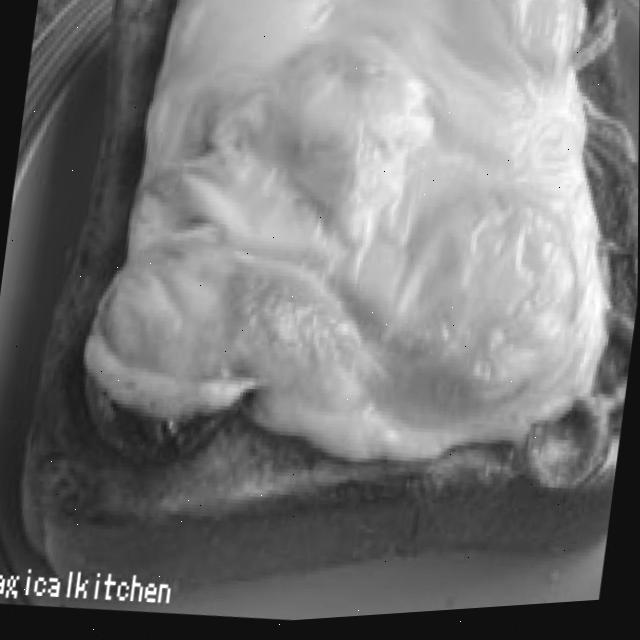面包点心: (7, 0, 640, 617)
